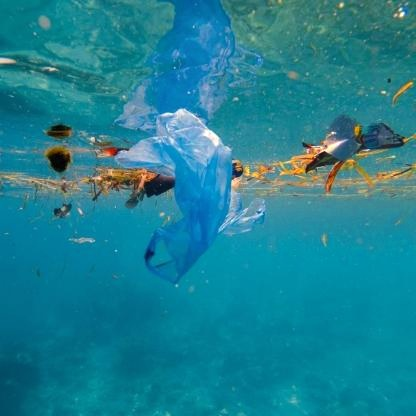pbag: (121, 101, 269, 287), (304, 112, 406, 180)
